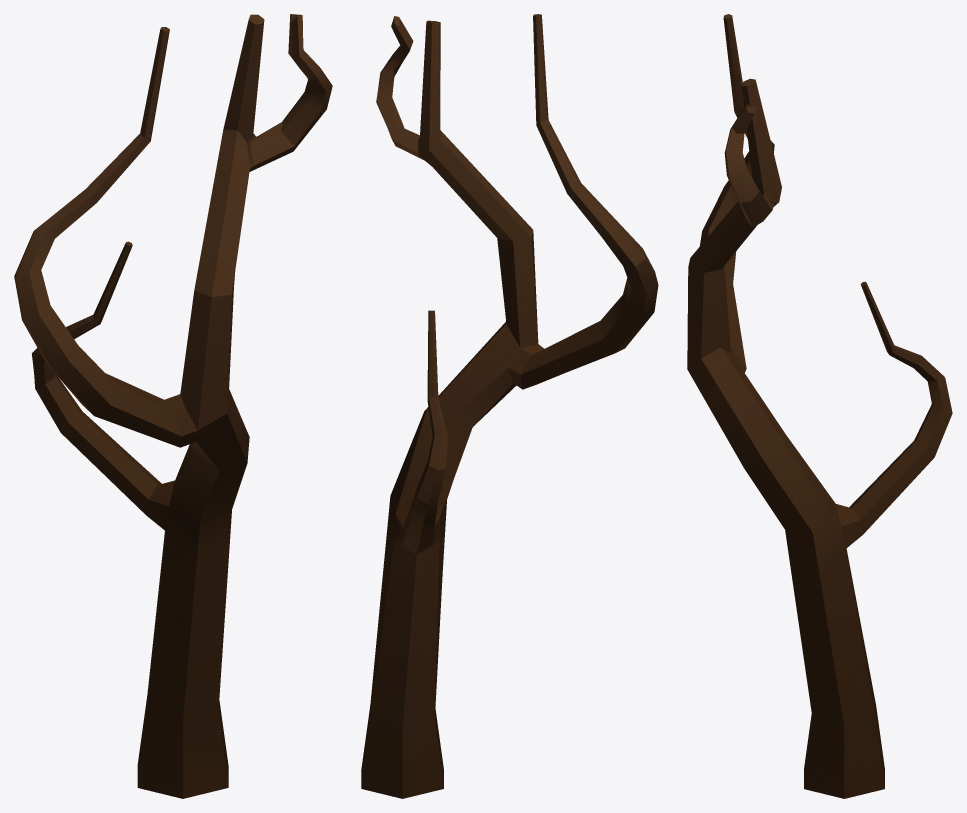
The model's file is Tree2.fbx.
3 views of the same model, side by side, from view 1: azimuth 30°, elevation 25°; view 2: azimuth 150°, elevation 25°; view 3: azimuth 270°, elevation 25° (orthographic). The views are drawn at different scales.
Parts seen in each view (by area): view 1: tree2; view 2: tree2; view 3: tree2.
Boxes of the visible parts, box(x1,y1,x2,y2) form: tree2: box(14, 14, 332, 798); tree2: box(361, 14, 658, 798); tree2: box(687, 14, 952, 798).
Size of the model in its own units: 8.62 by 21.95 by 7.26.
